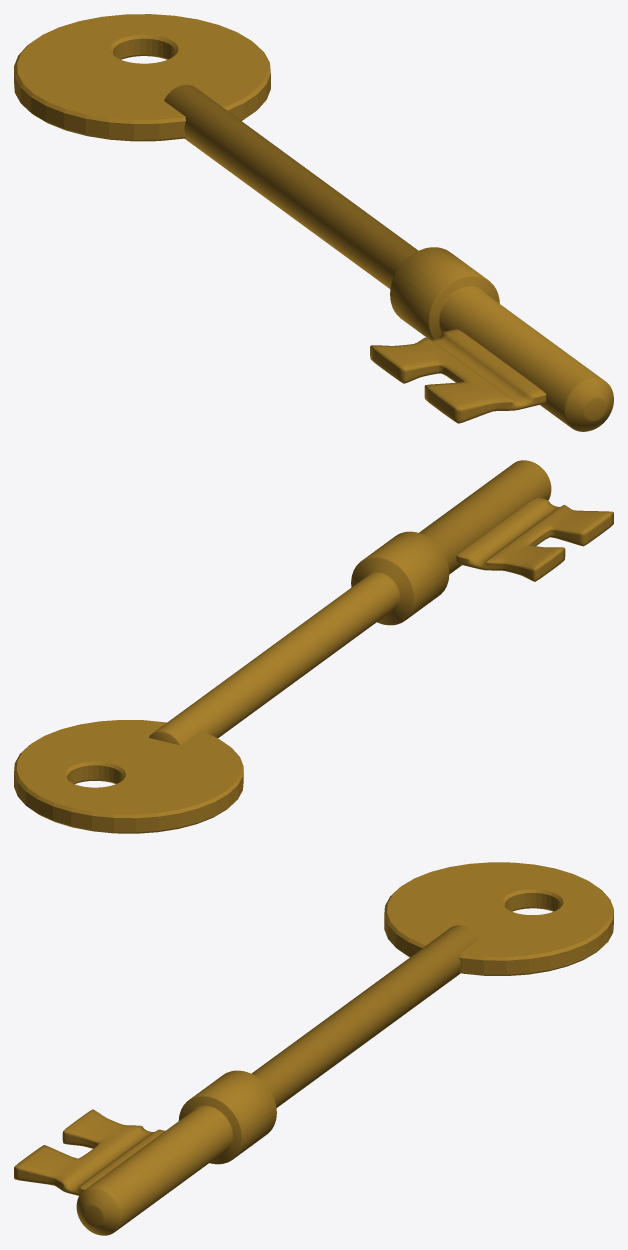
File: key.obj
3 views of the same model, one above another, from view 1: azimuth 30°, elevation 25°; view 2: azimuth 150°, elevation 25°; view 3: azimuth 330°, elevation 25° (orthographic). The views are drawn at different scales.
Visible parts, largest first — view 1: Plane.003_Plane.001; view 2: Plane.003_Plane.001; view 3: Plane.003_Plane.001.
Part boxes in pixels (<box>): Plane.003_Plane.001: <box>14,14,613,431</box>; Plane.003_Plane.001: <box>14,460,613,833</box>; Plane.003_Plane.001: <box>14,862,613,1235</box>.
Size of the model in its own units: 0.8351 by 0.2651 by 3.31.
